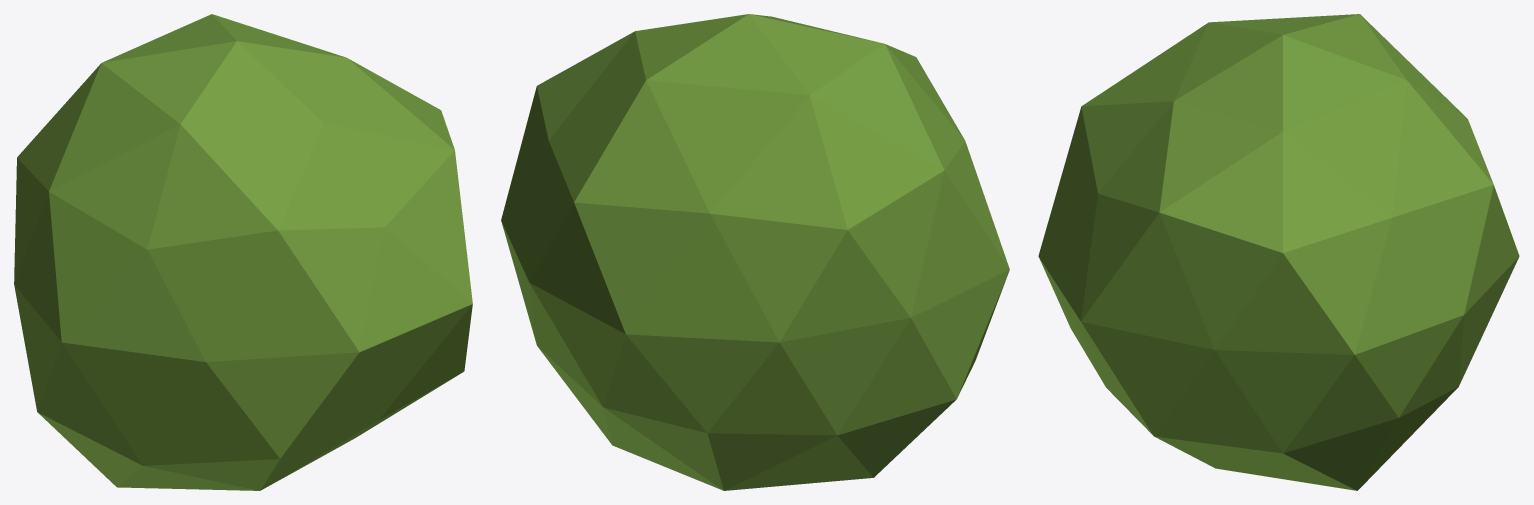
File: pea.glb
3 renders of one model, left to right at view 1: azimuth 30°, elevation 25°; view 2: azimuth 150°, elevation 25°; view 3: azimuth 270°, elevation 25°, orthographic. The views are drawn at different scales.
Parts seen in each view (by area): view 1: Faceted green pea; view 2: Faceted green pea; view 3: Faceted green pea.
Part boxes in pixels (x1,y1,x2,y2): Faceted green pea: (14, 14, 472, 490); Faceted green pea: (501, 14, 1009, 490); Faceted green pea: (1038, 14, 1519, 490).
Size of the model in its own units: 0.008 by 0.008 by 0.008.
